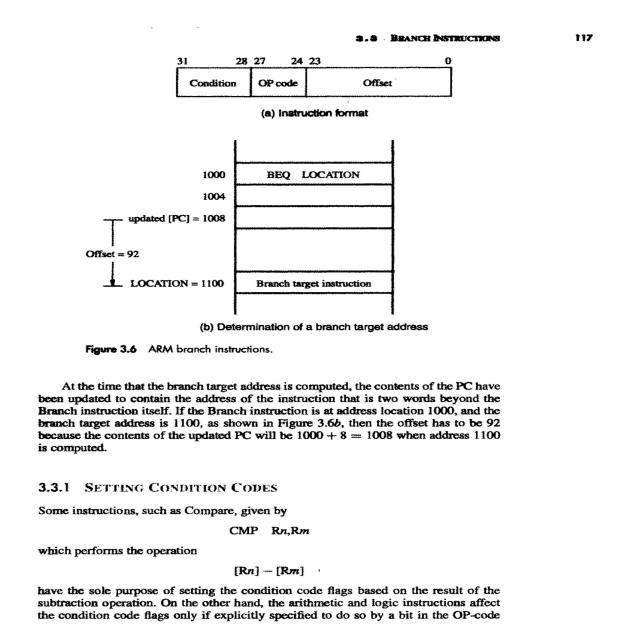diagram: (62, 49, 540, 365)
